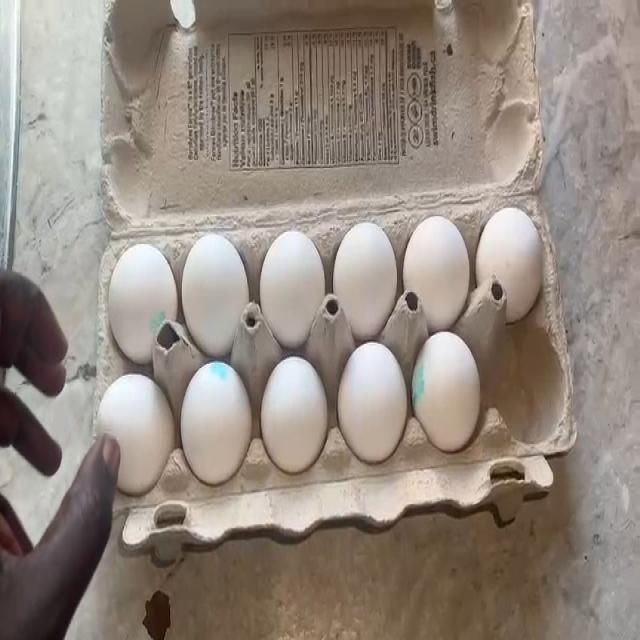Egg: (102, 237, 174, 342), (266, 350, 328, 464), (98, 376, 168, 474), (185, 368, 254, 463), (409, 204, 469, 310), (339, 219, 402, 319), (419, 328, 475, 432), (347, 345, 402, 448), (266, 228, 326, 322), (188, 236, 244, 330), (482, 200, 539, 291)
